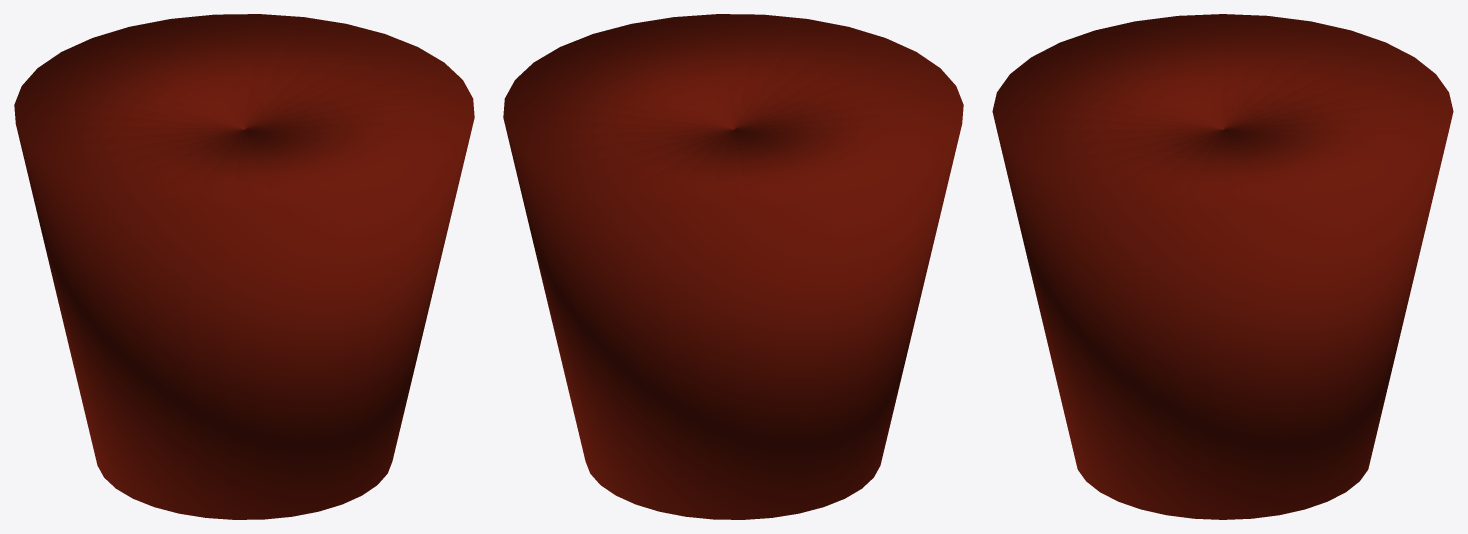
Rendered from Pot Filled 2 FBX.fbx.
3 renders of one model, left to right at view 1: azimuth 30°, elevation 25°; view 2: azimuth 150°, elevation 25°; view 3: azimuth 270°, elevation 25°, orthographic.
Visible parts, largest first — view 1: Flower Pot; view 2: Flower Pot; view 3: Flower Pot.
Boxes of the visible parts, x1,y1,x2,y2 form: Flower Pot: (14,14,474,519); Flower Pot: (503,14,963,519); Flower Pot: (992,14,1453,519).
Size of the model in its own units: 37.72 by 31.23 by 37.72.
